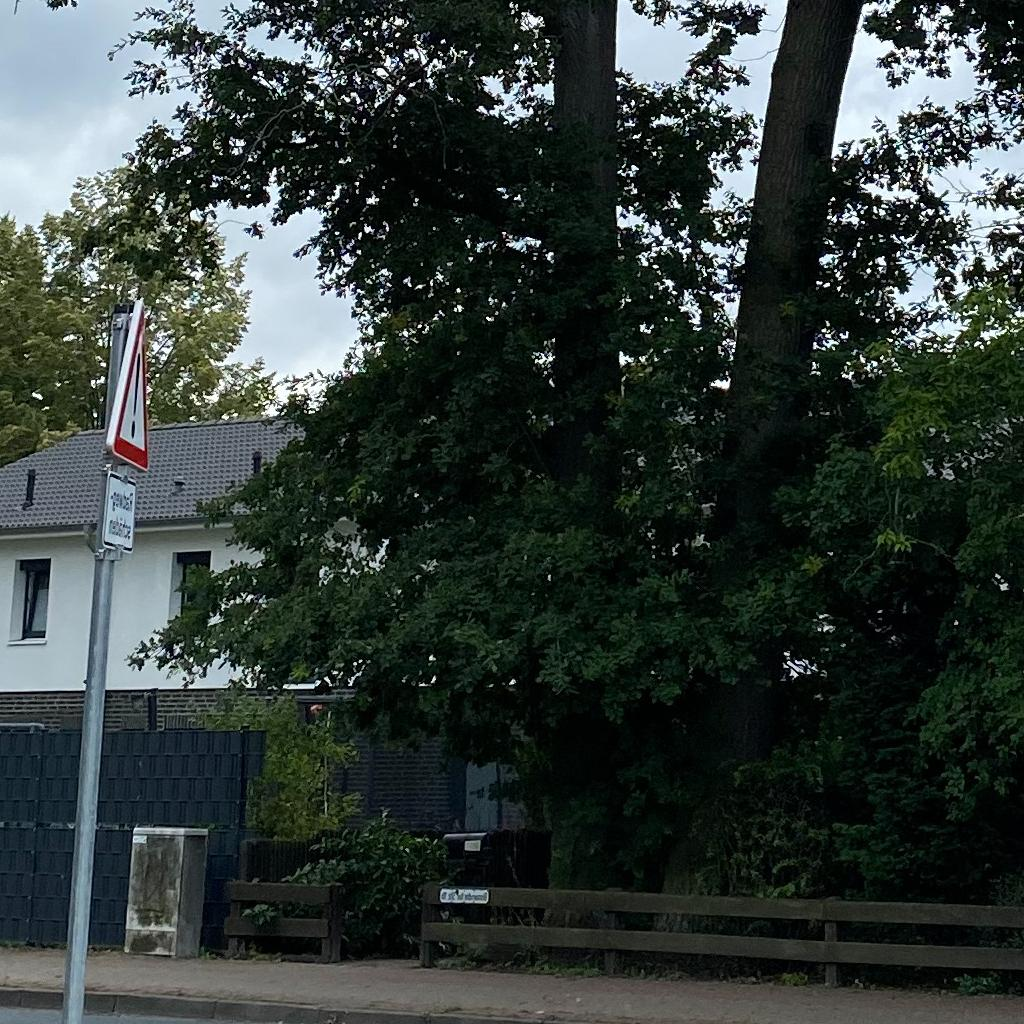tree: (13, 1, 1024, 977), (659, 1, 1023, 899), (1, 117, 288, 456)
